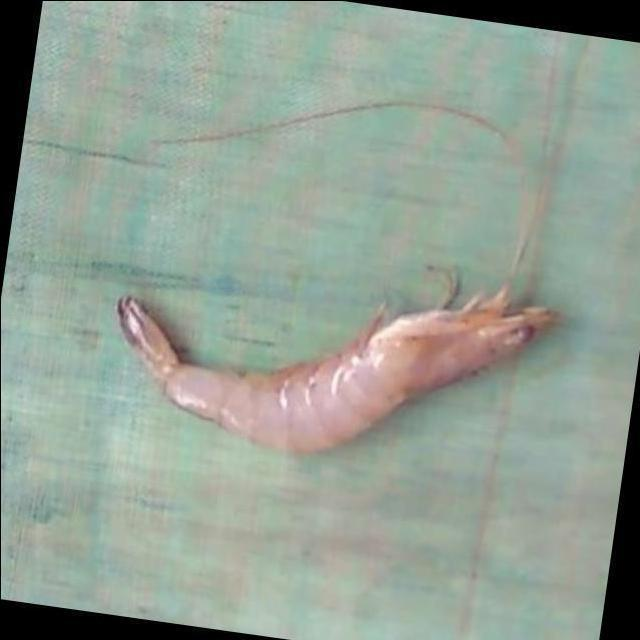shrimp: (115, 286, 556, 453)
